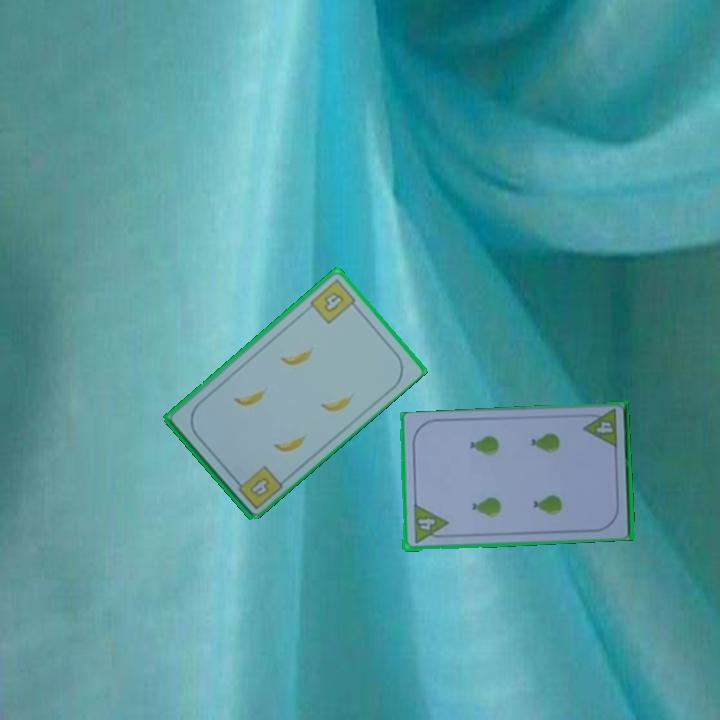4b: (306, 275, 361, 327), (230, 462, 285, 512)
4p: (409, 502, 450, 547), (579, 406, 620, 450)
